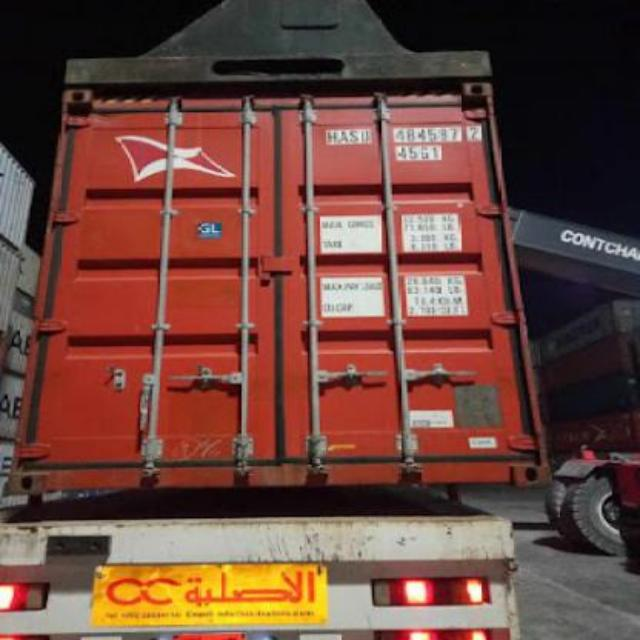2: (468, 126, 482, 142)
4: (392, 124, 406, 146), (416, 126, 428, 142)
5: (426, 120, 438, 146)
7: (448, 123, 458, 141)
8: (404, 124, 416, 144), (438, 122, 448, 144)
A: (338, 129, 350, 145)
H: (326, 124, 336, 146)
S: (348, 125, 360, 146)
U: (356, 126, 374, 142)
